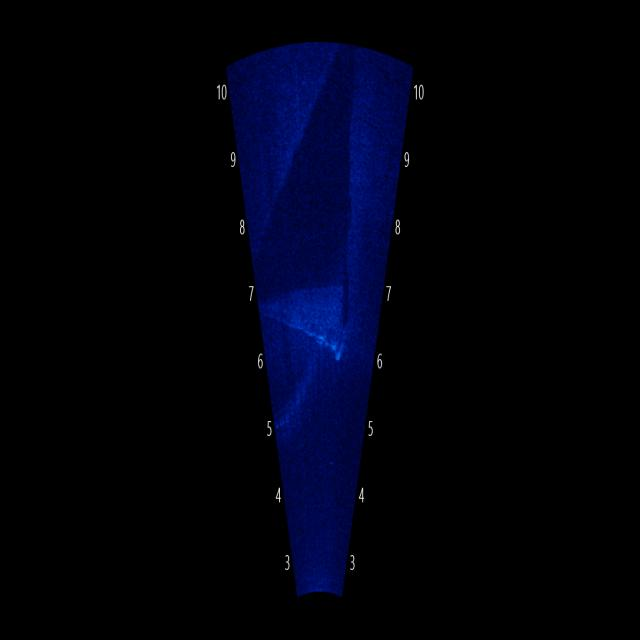triangle: (269, 256, 361, 371)
